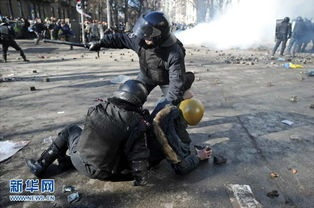falling: (24, 75, 158, 181)
